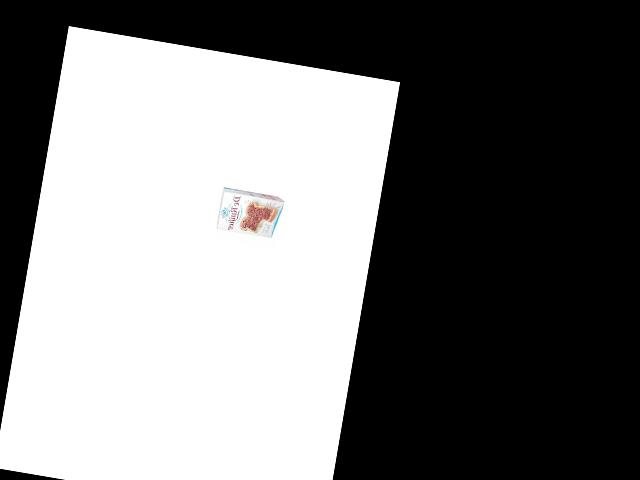chocolate: (211, 180, 284, 244)
